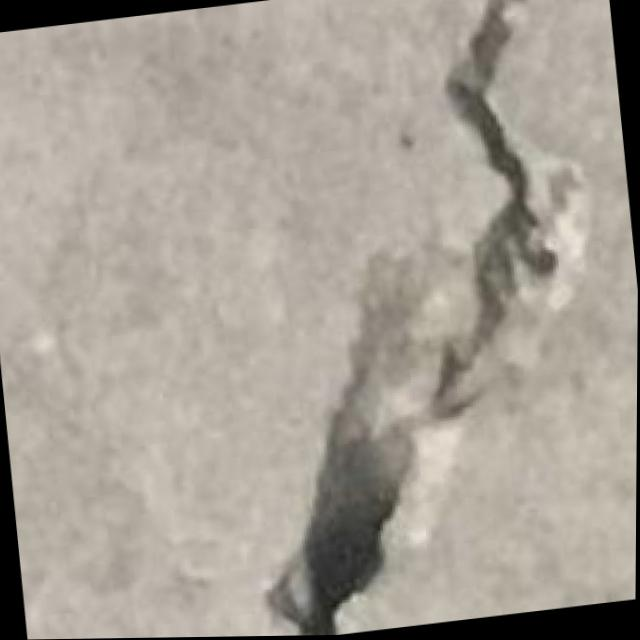Crack: (208, 0, 632, 632)
